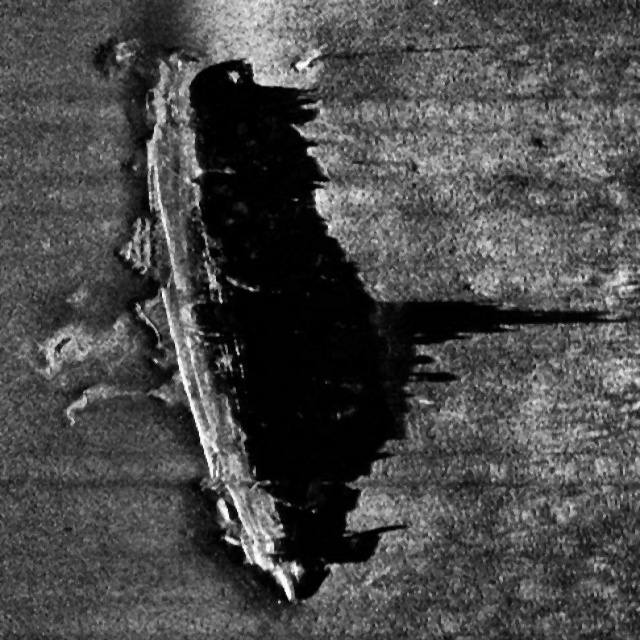Ship: (89, 31, 387, 608)
